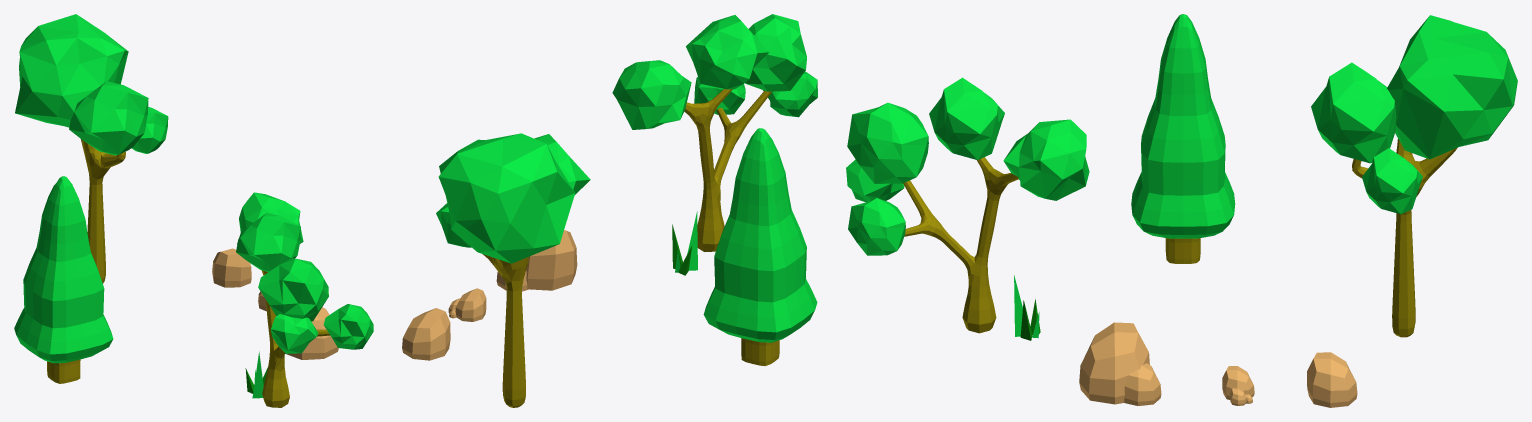
The model's file is Threes_LowPoly.fbx.
3 views of the same model, side by side, from view 1: azimuth 30°, elevation 25°; view 2: azimuth 150°, elevation 25°; view 3: azimuth 270°, elevation 25° (orthographic). The views are drawn at different scales.
Parts seen in each view (by area): view 1: Three01, Three03, Three02, Rock01, Rock02, Grass; view 2: Three02, Three01, Three03, Rock02, Rock01, Rock03, Grass; view 3: Three01, Three02, Three03, Rock02, Rock01, Rock03, Grass.
Boxes of the visible parts, x1,y1,x2,y2 form: Three01: (15, 14, 168, 283); Three03: (14, 176, 113, 383); Three02: (236, 192, 373, 407); Rock01: (212, 248, 251, 287); Rock02: (285, 307, 338, 359); Grass: (245, 351, 268, 398); Three02: (612, 14, 817, 251); Three01: (436, 133, 590, 407); Three03: (703, 128, 817, 365); Rock02: (496, 230, 577, 291); Rock01: (402, 308, 450, 360); Rock03: (448, 288, 486, 321); Grass: (672, 211, 697, 275); Three01: (1311, 15, 1517, 337); Three02: (846, 77, 1089, 333); Three03: (1131, 14, 1235, 263); Rock02: (1079, 322, 1161, 405); Rock01: (1307, 352, 1357, 407); Rock03: (1222, 366, 1254, 405); Grass: (1014, 275, 1040, 340).
Bounding box in the file's own units: 1025 × 844 × 1724.
